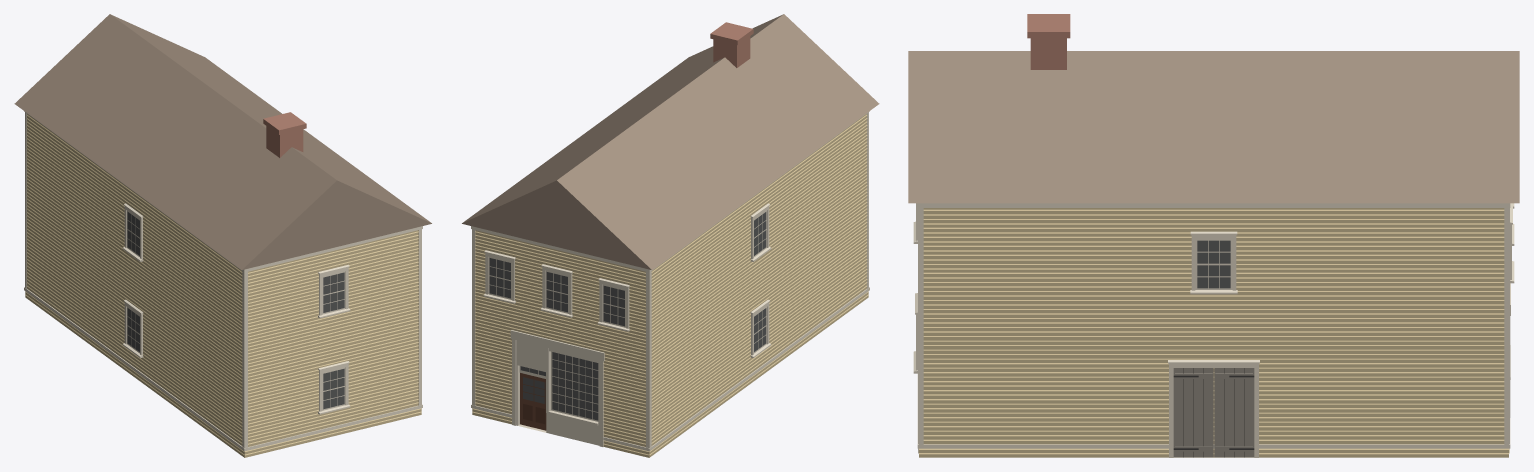
File: recon_1835_core_c3_002__inferred_1835.glb
3 renders of one model, left to right at view 1: azimuth 30°, elevation 25°; view 2: azimuth 150°, elevation 25°; view 3: azimuth 270°, elevation 25°, orthographic. The views are drawn at different scales.
Visible parts, largest first — view 1: recon_1835_core_c3_002__inferred_1835; view 2: recon_1835_core_c3_002__inferred_1835; view 3: recon_1835_core_c3_002__inferred_1835.
Part boxes in pixels (<box>): recon_1835_core_c3_002__inferred_1835: <box>14,14,431,457</box>; recon_1835_core_c3_002__inferred_1835: <box>462,14,879,457</box>; recon_1835_core_c3_002__inferred_1835: <box>908,14,1519,457</box>.
Size of the model in its own units: 6.8 by 9.53 by 14.02.
